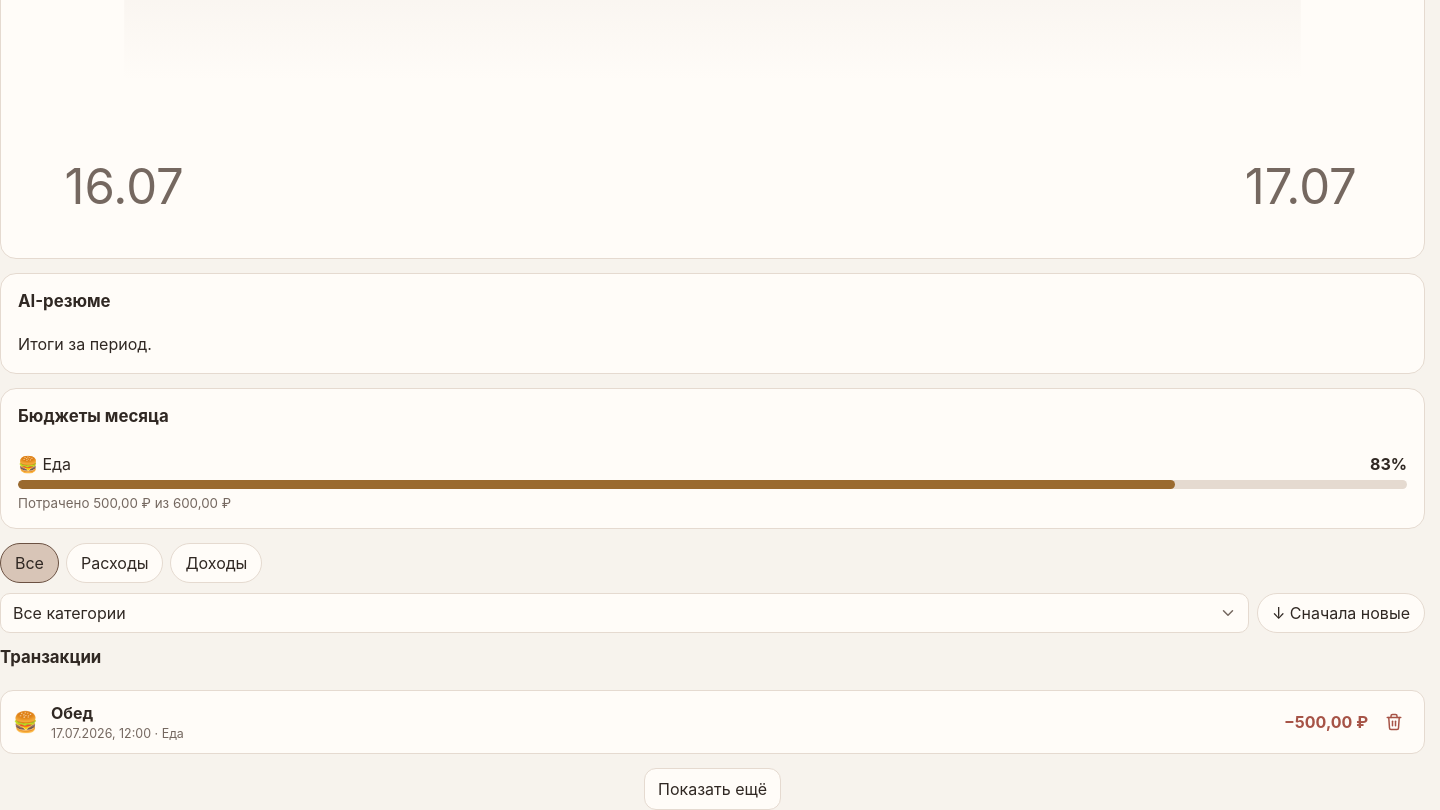
Test case: FinanceScreen › appends pages without duplicate transactions
(page scrolled)
Click the button "Показать ещё": (712, 788) left=644, top=768, right=781, bottom=809
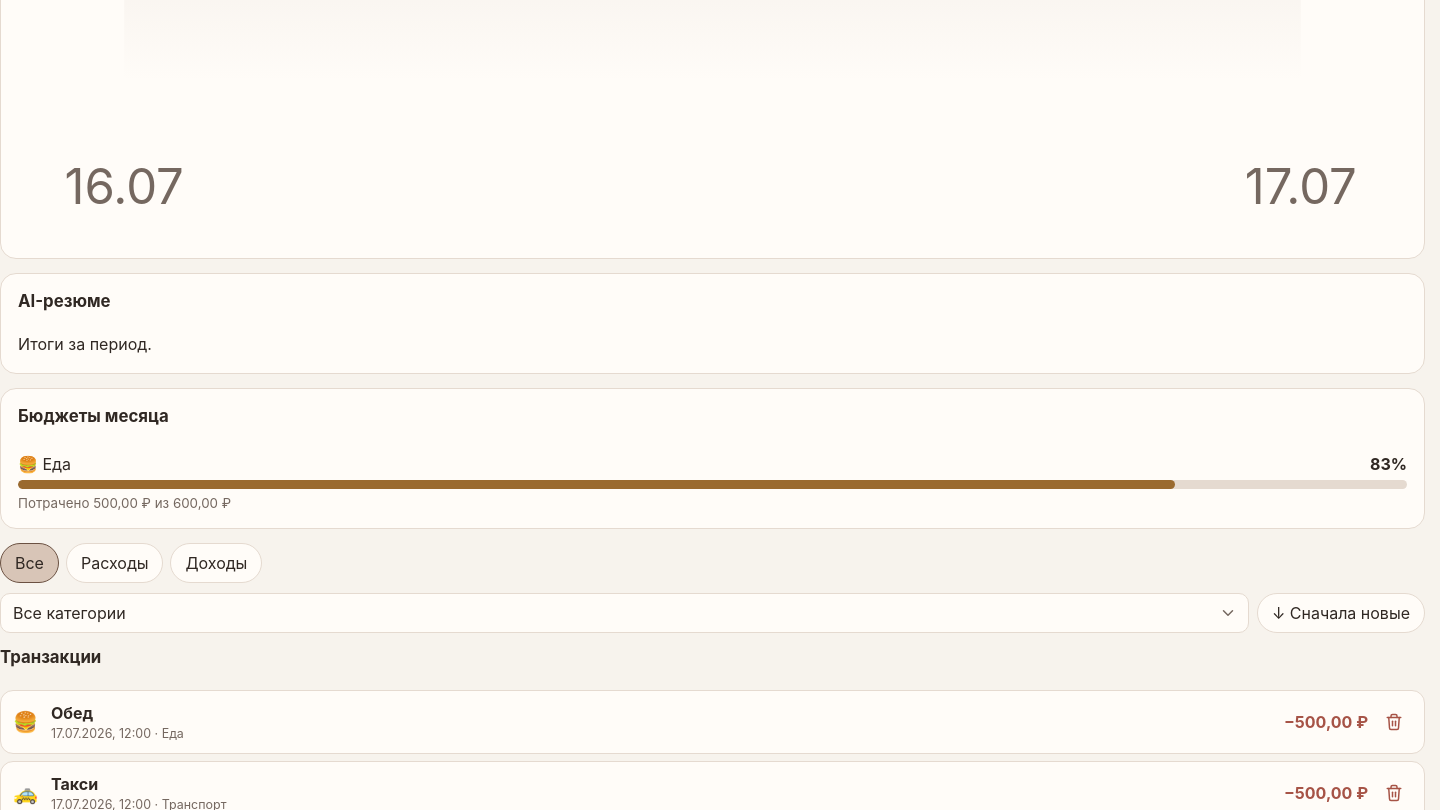
Result: the text "Такси" is shown at left=51, top=774, right=98, bottom=794
